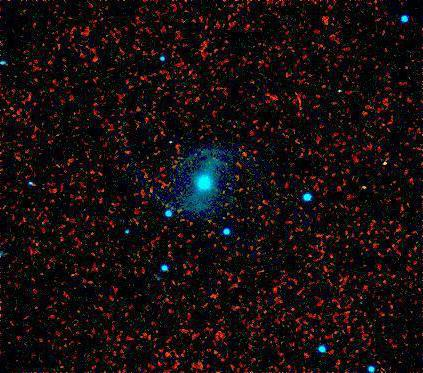star: (365, 152, 395, 182)
